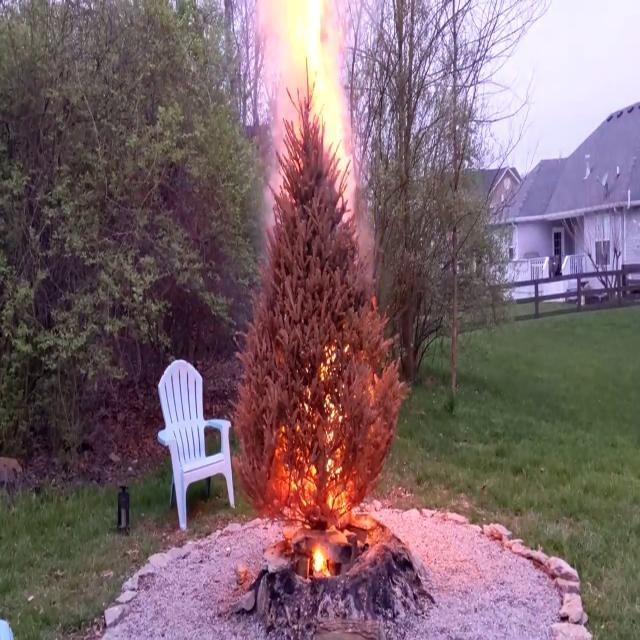Fire: (286, 342, 356, 548), (293, 2, 354, 180), (306, 542, 330, 580)
